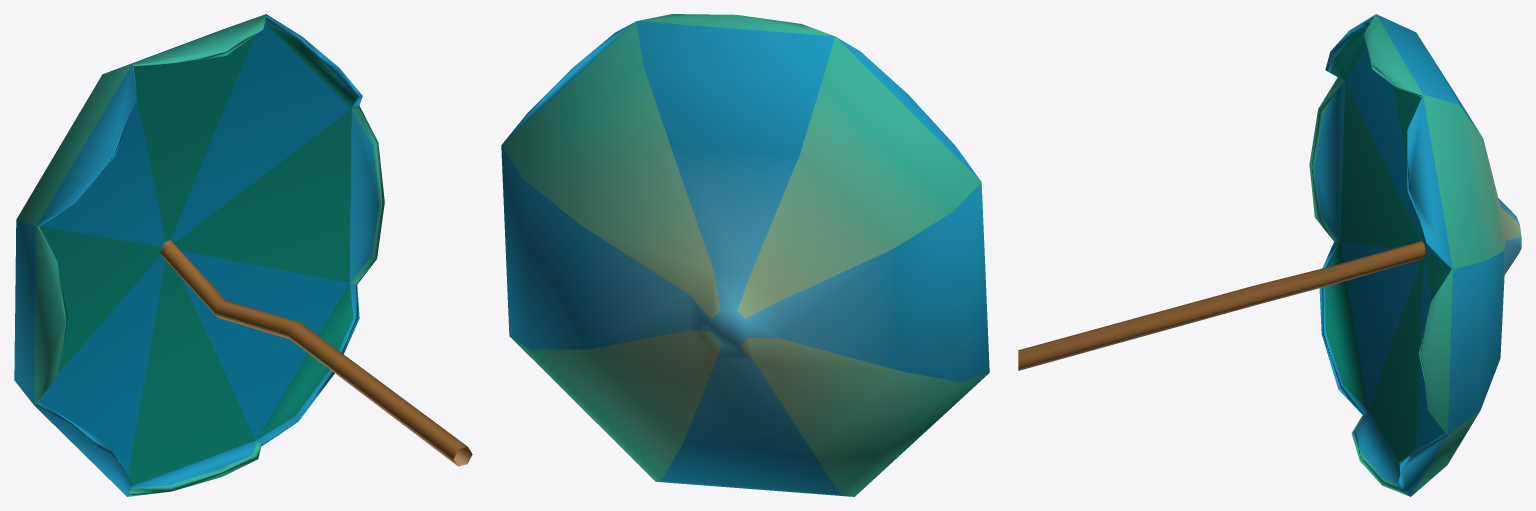
Rendered from BlizzardBeachUmbrellaBlue.fbx.
3 renders of one model, left to right at view 1: azimuth 30°, elevation 25°; view 2: azimuth 150°, elevation 25°; view 3: azimuth 270°, elevation 25°, orthographic. The views are drawn at different scales.
Visible parts, largest first — view 1: BlizzardBeachUmbrellaBlue; view 2: BlizzardBeachUmbrellaBlue; view 3: BlizzardBeachUmbrellaBlue.
Part boxes in pixels (x1,y1,x2,y2): BlizzardBeachUmbrellaBlue: [14, 14, 472, 496]; BlizzardBeachUmbrellaBlue: [501, 14, 989, 496]; BlizzardBeachUmbrellaBlue: [1018, 14, 1521, 496].
Bounding box in the file's own units: 91.25 × 95.01 × 105.
